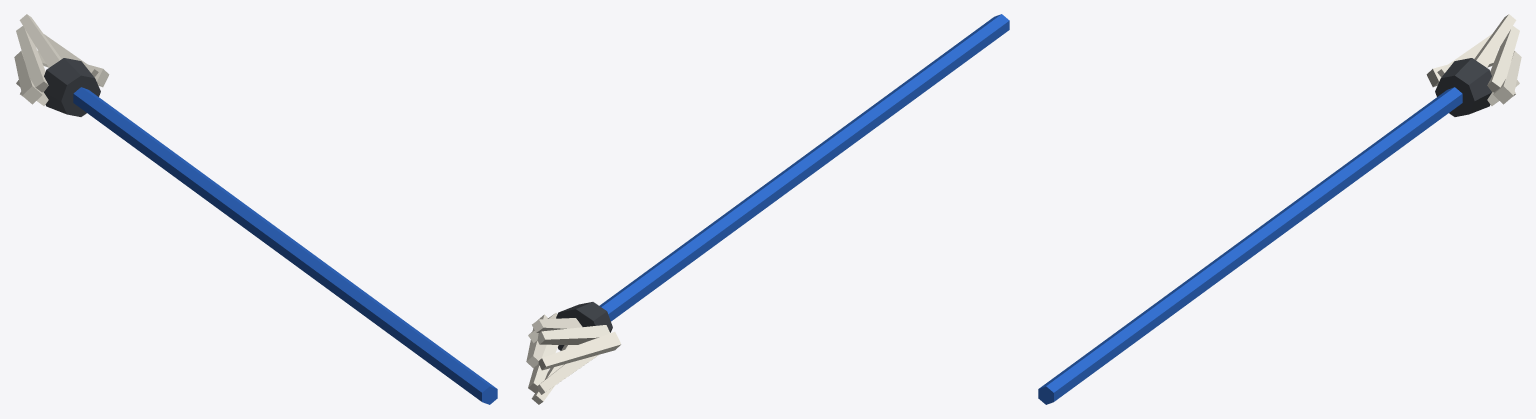
The model's file is mop.glb.
3 renders of one model, left to right at view 1: azimuth 30°, elevation 25°; view 2: azimuth 150°, elevation 25°; view 3: azimuth 330°, elevation 25°, orthographic.
Visible parts, largest first — view 1: stick_mop_handle, head_mop_head, head_mop_cap; view 2: stick_mop_handle, head_mop_head, head_mop_cap; view 3: stick_mop_handle, head_mop_head, head_mop_cap.
Part boxes in pixels (x1=…): stick_mop_handle: x1=73, y1=87, x2=497, y2=404; head_mop_head: x1=14, y1=14, x2=109, y2=105; head_mop_cap: x1=44, y1=58, x2=100, y2=116; stick_mop_handle: x1=599, y1=14, x2=1009, y2=321; head_mop_head: x1=526, y1=313, x2=621, y2=404; head_mop_cap: x1=556, y1=302, x2=612, y2=350; stick_mop_handle: x1=1038, y1=87, x2=1462, y2=404; head_mop_head: x1=1426, y1=14, x2=1521, y2=105; head_mop_cap: x1=1435, y1=58, x2=1491, y2=116.
Size of the model in its own units: 0.1755 by 0.1644 by 1.62.
